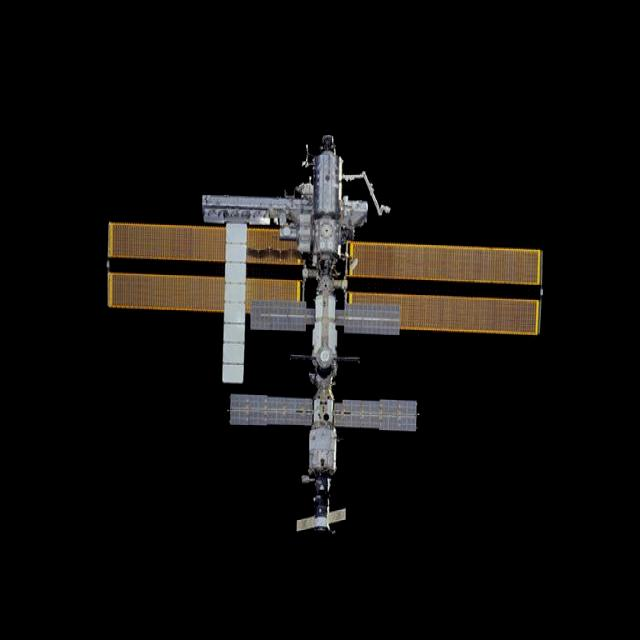medium_debris: (108, 136, 541, 530)
